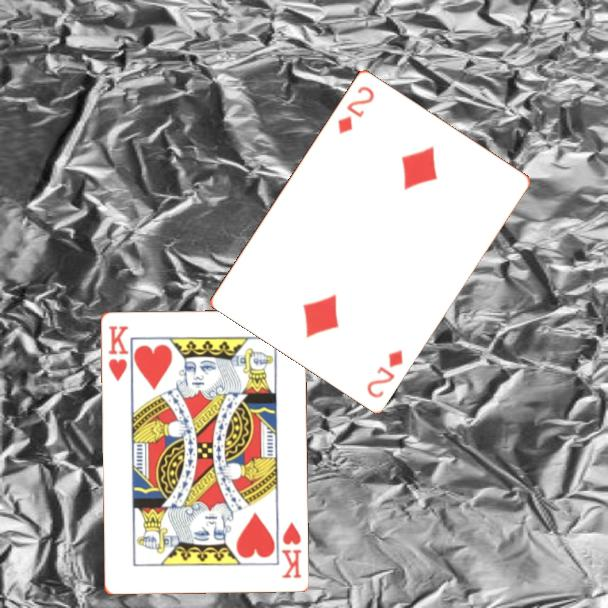d02: (334, 82, 377, 137), (363, 346, 406, 401)
h13: (278, 518, 304, 581), (105, 322, 131, 384)
